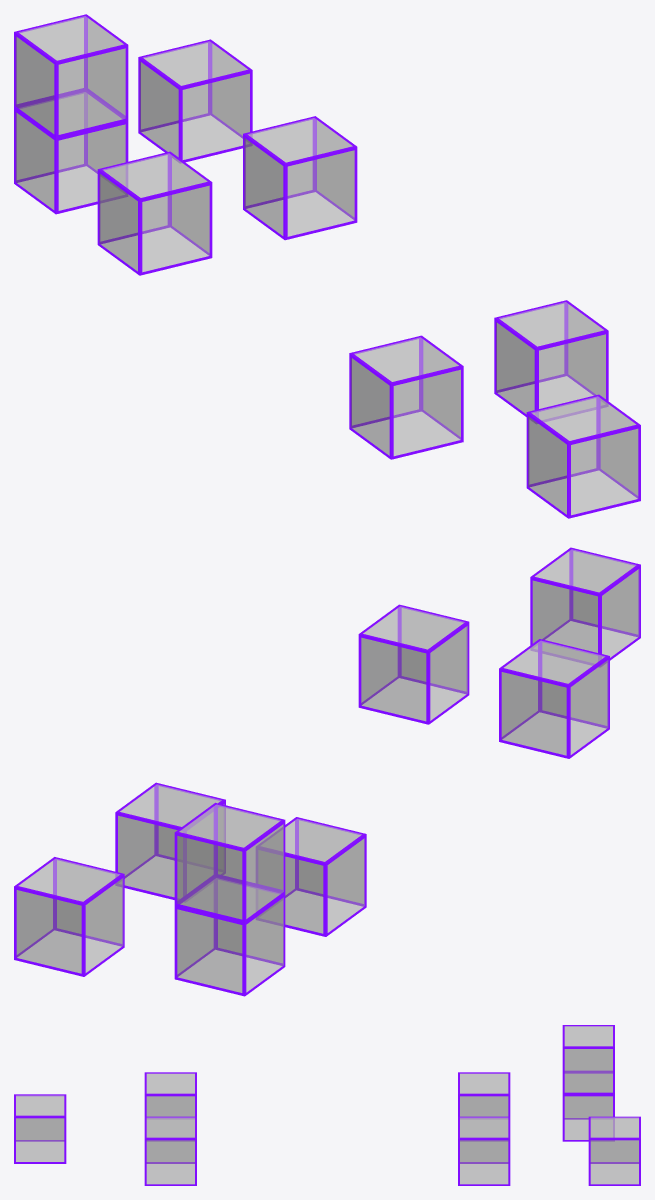
Rendered from (2)H Wall.fbx.
The picture shows the model from 3 angles, top to bottom: view 1: azimuth 30°, elevation 25°; view 2: azimuth 150°, elevation 25°; view 3: azimuth 270°, elevation 25°; orthographic projection. The views are drawn at different scales.
Parts seen in each view (by area): view 1: Wall.008, Wall.002, Wall.004, Wall.009, Wall.007, Wall.010, Wall.005, Wall.006; view 2: Wall.009, Wall.005, Wall.002, Wall.010, Wall.006, Wall.004, Wall.008, Wall.007; view 3: Wall.004, Wall.005, Wall.007, Wall.009, Wall.010, Wall.006, Wall.002, Wall.008.
Part boxes in pixels (x1,y1,x2,y2): Wall.008: (97, 151, 212, 275); Wall.002: (349, 335, 463, 459); Wall.004: (526, 394, 640, 518); Wall.009: (14, 14, 128, 138); Wall.007: (243, 116, 357, 240); Wall.010: (138, 39, 252, 162); Wall.005: (494, 300, 608, 423); Wall.006: (14, 90, 128, 214); Wall.009: (174, 802, 285, 922); Wall.005: (358, 604, 469, 724); Wall.002: (499, 639, 609, 758); Wall.010: (14, 857, 124, 976); Wall.006: (174, 876, 285, 996); Wall.004: (530, 547, 640, 666); Wall.008: (256, 817, 366, 936); Wall.007: (115, 782, 225, 899); Wall.004: (14, 1094, 66, 1163); Wall.005: (144, 1116, 196, 1185); Wall.007: (458, 1116, 510, 1185); Wall.009: (562, 1025, 614, 1094); Wall.010: (588, 1116, 640, 1185); Wall.006: (562, 1072, 614, 1141); Wall.002: (144, 1072, 196, 1119); Wall.008: (458, 1072, 510, 1119).
Bounding box in the file's own units: 600 × 400 × 2400.
